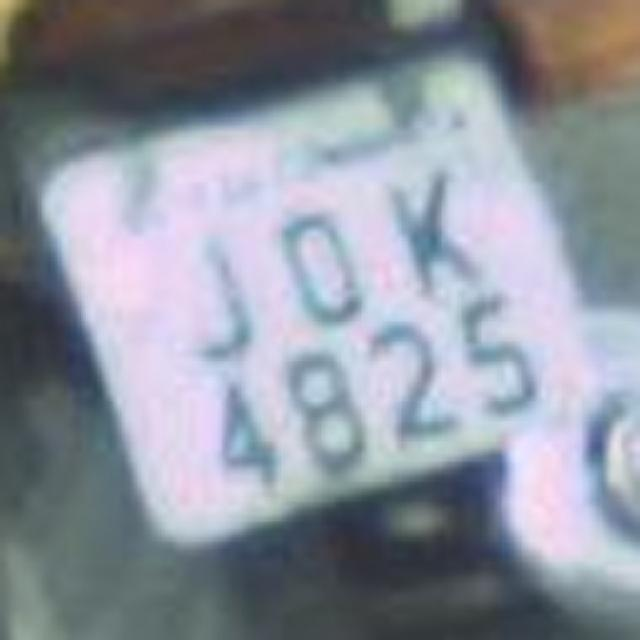2: (356, 304, 472, 444)
4: (196, 360, 292, 505)
5: (440, 280, 552, 420)
B: (276, 332, 384, 472)
D: (264, 196, 368, 336)
J: (164, 220, 271, 368)
K: (368, 152, 492, 296)
